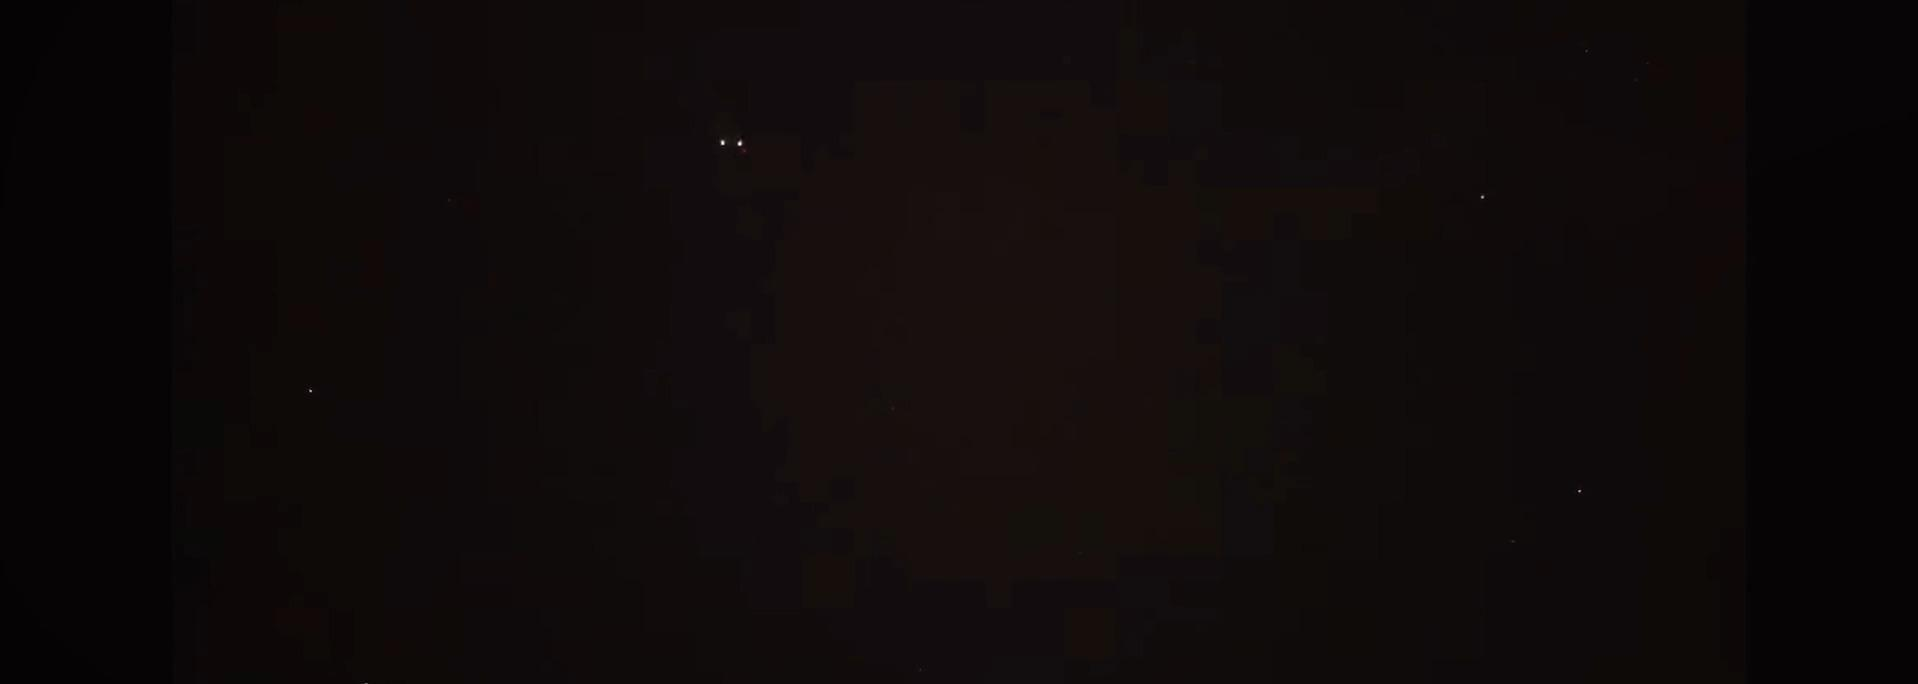Plane: (697, 124, 772, 164)
